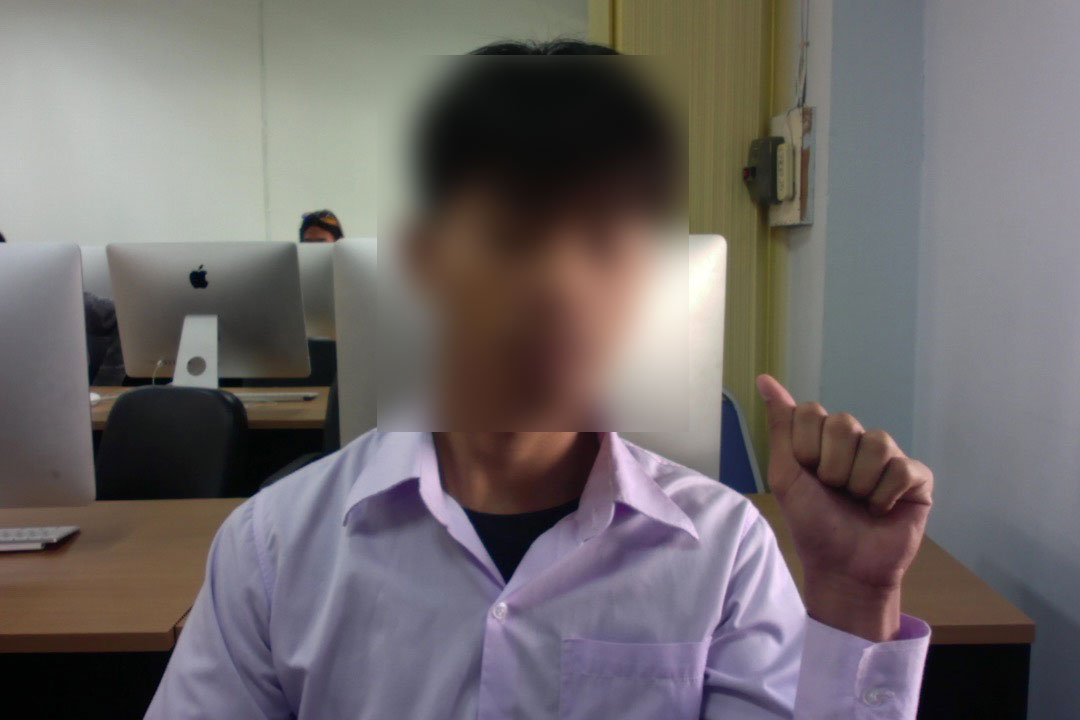or: (746, 360, 943, 617)
